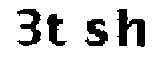3: (10, 6, 43, 50)
h: (114, 6, 151, 51)
s: (81, 16, 109, 52)
t: (45, 12, 69, 49)
